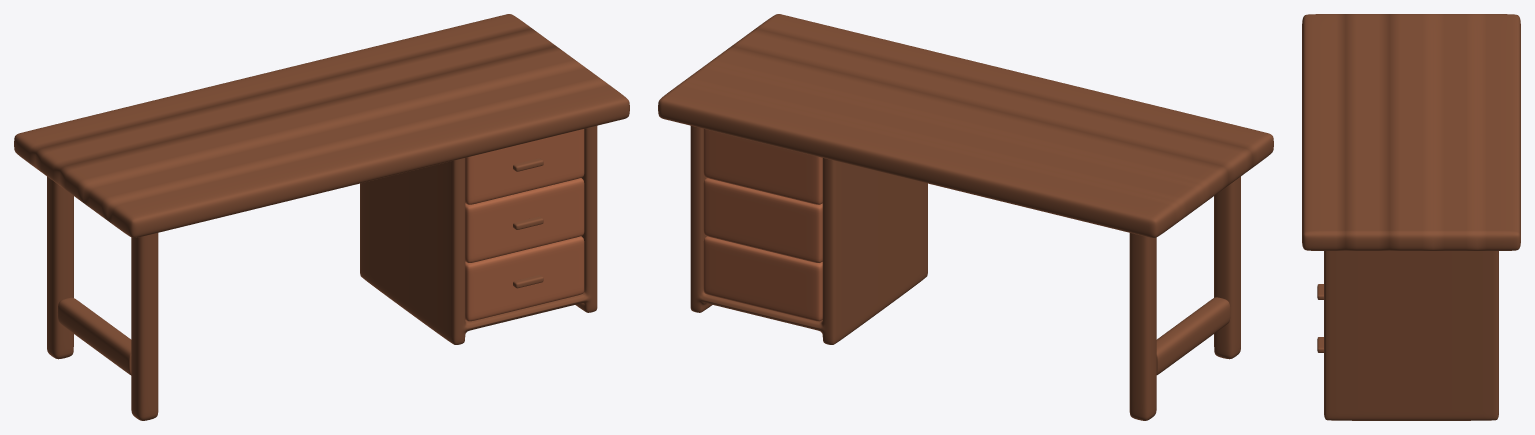
File: Habitacion_escritorio_v1.fbx
The picture shows the model from 3 angles, left to right: view 1: azimuth 30°, elevation 25°; view 2: azimuth 150°, elevation 25°; view 3: azimuth 270°, elevation 25°; orthographic projection. The views are drawn at different scales.
Visible parts, largest first — view 1: Cubo.020, Cubo.013, Cubo.012, Cubo.014, Cubo.015, Cubo.016, Cubo.009; view 2: Cubo.020, Cubo.013, Cubo.012, Cubo.014, Cubo.015, Cubo.016, Cubo.009; view 3: Cubo.020, Cubo.013.
Part boxes in pixels (<box>): Cubo.020: <box>14,14,629,237</box>; Cubo.013: <box>360,126,597,344</box>; Cubo.012: <box>47,176,158,420</box>; Cubo.014: <box>465,236,584,321</box>; Cubo.015: <box>465,178,584,262</box>; Cubo.016: <box>465,129,584,204</box>; Cubo.009: <box>57,297,131,375</box>; Cubo.020: <box>658,14,1273,237</box>; Cubo.013: <box>690,126,927,344</box>; Cubo.012: <box>1129,176,1240,420</box>; Cubo.014: <box>703,236,822,321</box>; Cubo.015: <box>703,178,822,262</box>; Cubo.016: <box>703,129,822,204</box>; Cubo.009: <box>1156,297,1230,374</box>; Cubo.020: <box>1302,14,1520,250</box>; Cubo.013: <box>1324,251,1498,420</box>.
Bounding box in the file's own units: 180 × 74.96 × 74.95.
